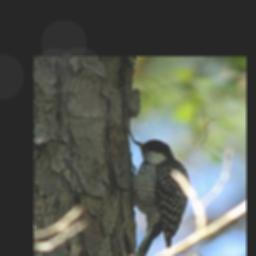Woodpecker: (129, 137, 190, 256)
